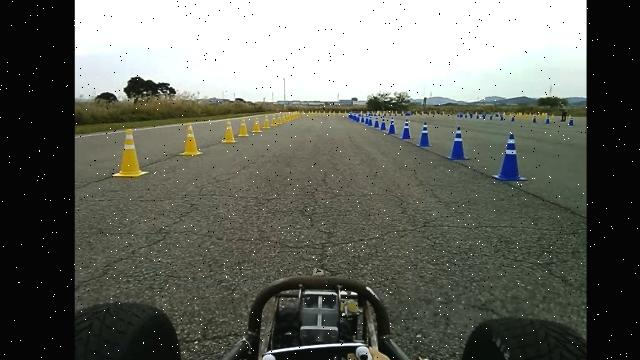blue cone: (492, 133, 528, 181), (442, 121, 472, 166), (410, 117, 434, 151), (399, 112, 414, 140), (386, 119, 394, 136)
yellow cone: (112, 127, 149, 178), (180, 122, 203, 156), (222, 119, 237, 143), (238, 117, 250, 137), (251, 116, 263, 132), (262, 117, 271, 129), (278, 113, 284, 125), (271, 116, 278, 126)
